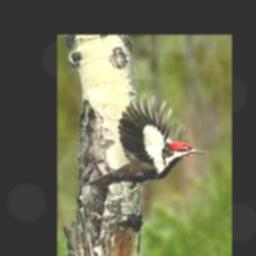Woodpecker: (84, 95, 208, 192)
